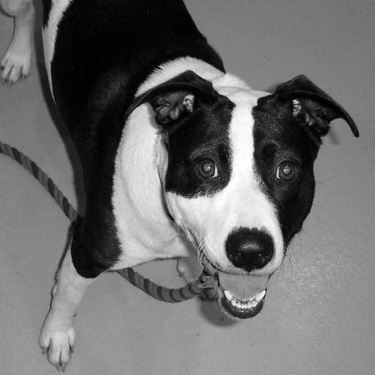dog: (5, 1, 361, 367)
